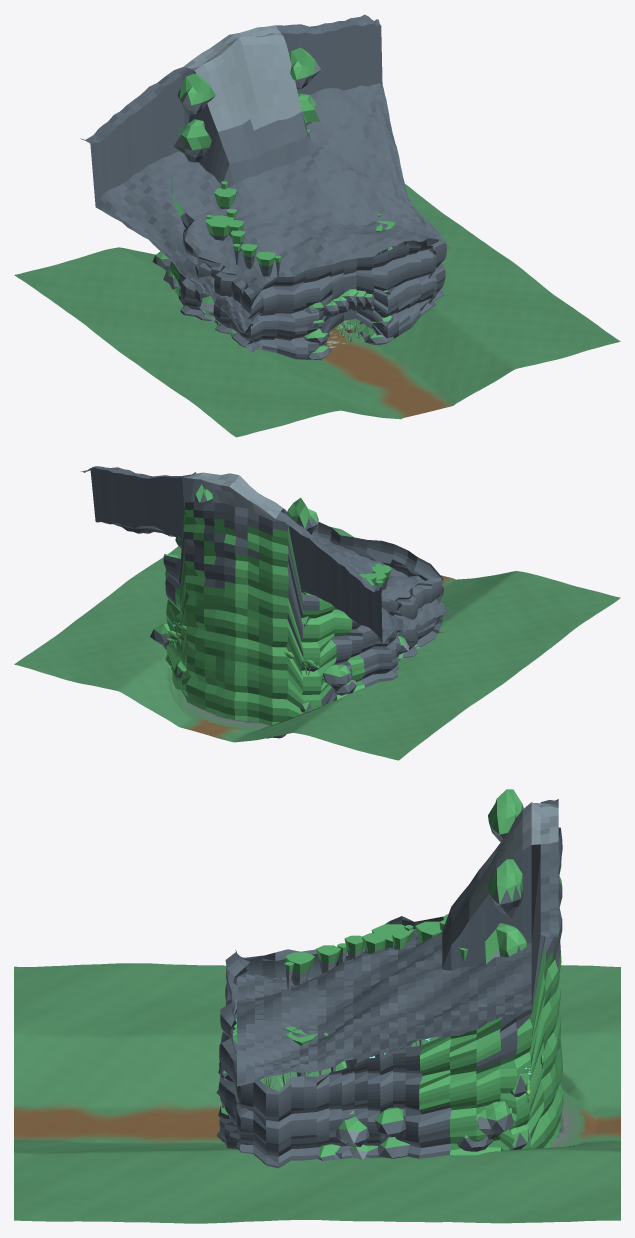
File: cavern_kit.glb
3 renders of one model, top to bottom at view 1: azimuth 30°, elevation 25°; view 2: azimuth 150°, elevation 25°; view 3: azimuth 270°, elevation 25°, orthographic. The views are drawn at different scales.
Visible parts, largest first — view 1: Cavern_Visible_Arch, Cavern_Terrain_Grid, Continuous_U_Canyon_Walls, Waterfall_Cliff_Tower_Left_Tier_3, Waterfall_Cliff_Tower_Left_Tier_4, Waterfall_Cliff_Tower_Right_Tier_4; view 2: Cavern_Terrain_Grid, Continuous_U_Canyon_Walls, Cavern_Visible_Arch, Waterfall_Cliff_Tower_Left_Tier_4, Left_Terrace_4; view 3: Cavern_Terrain_Grid, Continuous_U_Canyon_Walls, Cavern_Visible_Arch, Waterfall_Cliff_Tower_Right_Tier_4, Waterfall_Cliff_Tower_Left_Tier_4, Waterfall_Cliff_Tower_Right_Tier_3, Right_Terrace_4, Right_Terrace_U2, Right_Terrace_U1, VisibleStalactite_9.
Part boxes in pixels (box(x1,y1,x2,y2)): Cavern_Visible_Arch: box(80, 14, 450, 333); Cavern_Terrain_Grid: box(14, 184, 620, 437); Continuous_U_Canyon_Walls: box(170, 122, 446, 360); Waterfall_Cliff_Tower_Left_Tier_3: box(173, 119, 211, 162); Waterfall_Cliff_Tower_Left_Tier_4: box(177, 73, 215, 114); Waterfall_Cliff_Tower_Right_Tier_4: box(289, 47, 321, 89); Cavern_Terrain_Grid: box(14, 527, 620, 760); Continuous_U_Canyon_Walls: box(163, 502, 443, 725); Cavern_Visible_Arch: box(80, 466, 450, 644); Waterfall_Cliff_Tower_Left_Tier_4: box(287, 497, 318, 534); Left_Terrace_4: box(323, 664, 350, 690); Cavern_Terrain_Grid: box(14, 963, 620, 1223); Continuous_U_Canyon_Walls: box(218, 827, 563, 1168); Cavern_Visible_Arch: box(237, 799, 558, 1086); Waterfall_Cliff_Tower_Right_Tier_4: box(488, 859, 523, 917); Waterfall_Cliff_Tower_Left_Tier_4: box(488, 789, 523, 841); Waterfall_Cliff_Tower_Right_Tier_3: box(485, 923, 526, 963); Right_Terrace_4: box(477, 1101, 512, 1139); Right_Terrace_U2: box(374, 1107, 405, 1137); Right_Terrace_U1: box(336, 1110, 369, 1146); VisibleStalactite_9: box(285, 952, 314, 985).
Bounding box in the file's own units: 34 × 23.34 × 34.
